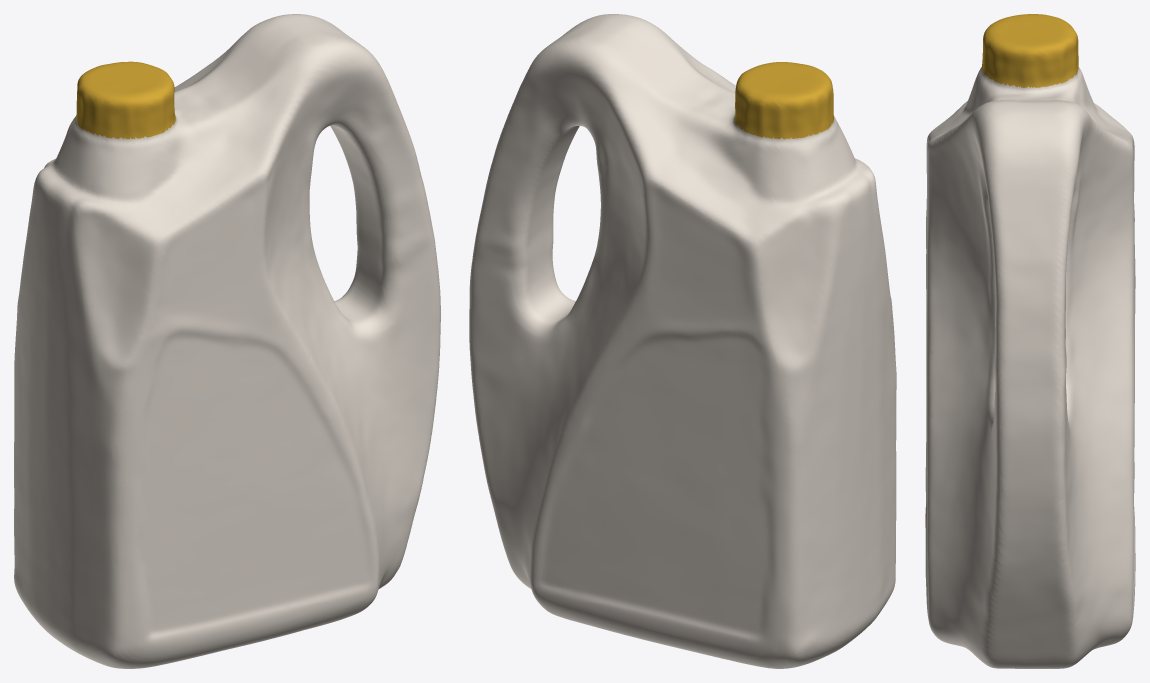
The model's file is oil-jug-scanned-graded.glb.
3 views of the same model, side by side, from view 1: azimuth 30°, elevation 25°; view 2: azimuth 150°, elevation 25°; view 3: azimuth 270°, elevation 25° (orthographic). The views are drawn at different scales.
Parts seen in each view (by area): view 1: world; view 2: world; view 3: world.
Boxes of the visible parts, x1=… form: world: x1=14, y1=14, x2=440, y2=668; world: x1=469, y1=14, x2=896, y2=668; world: x1=925, y1=14, x2=1135, y2=668.
Size of the model in its own units: 1.4 by 1.96 by 0.6983.
